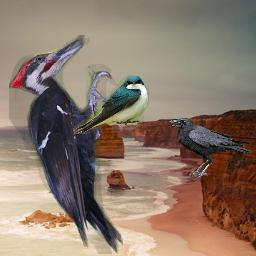Crow: (169, 118, 252, 179)
Swallow: (73, 75, 149, 134)
Woodpecker: (9, 35, 123, 254)
